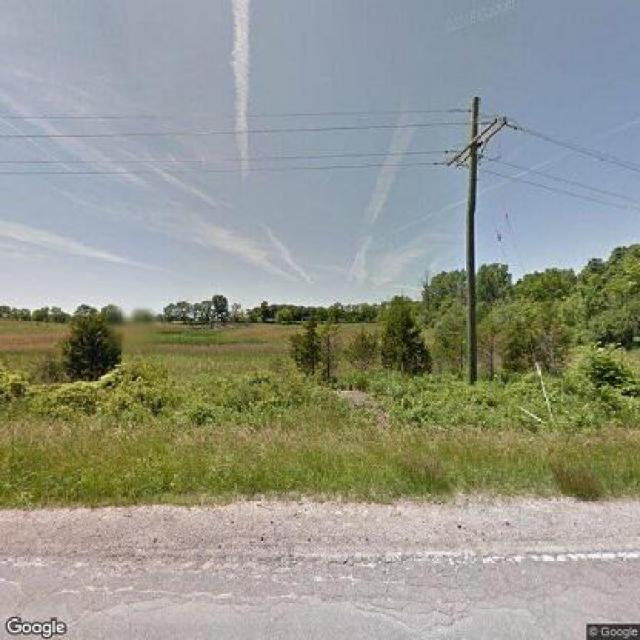pole: (440, 92, 518, 388)
